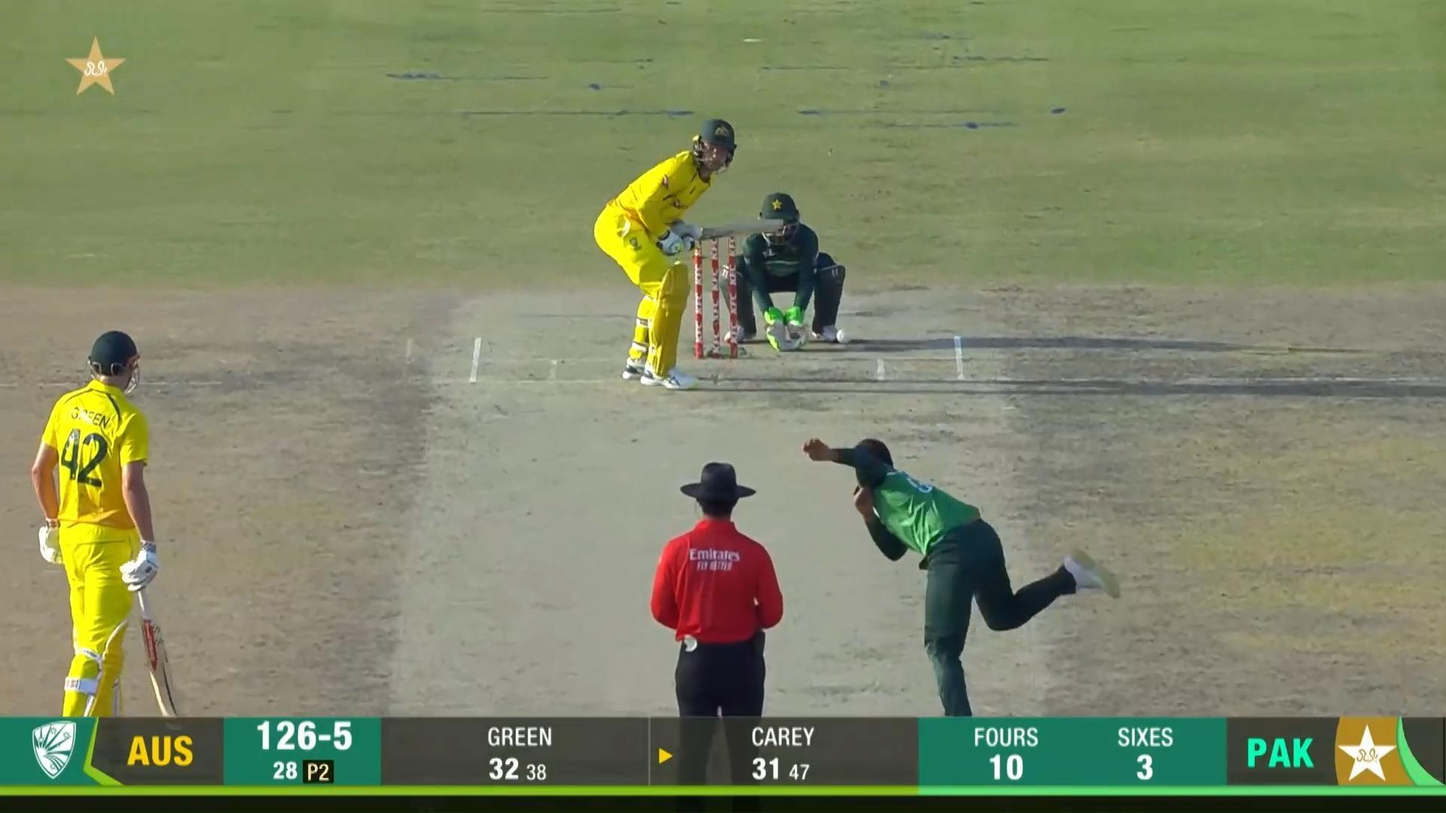BM 1: (595, 119, 784, 390)
BO: (805, 436, 1124, 715)
